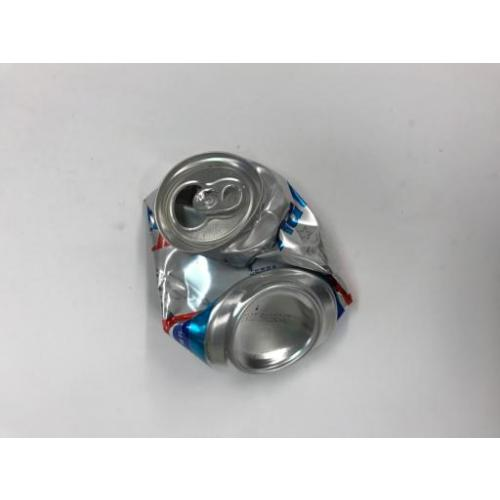metal: (149, 155, 349, 374)
